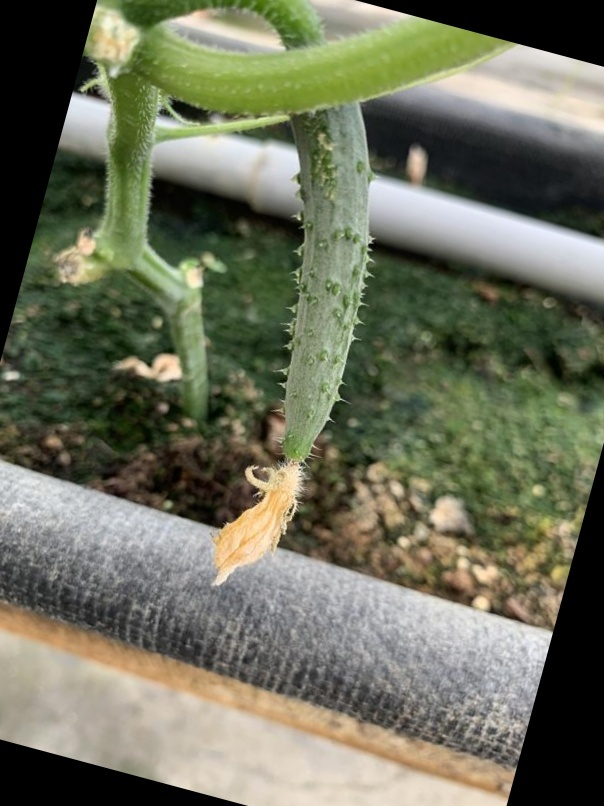bear: (195, 97, 406, 598)
